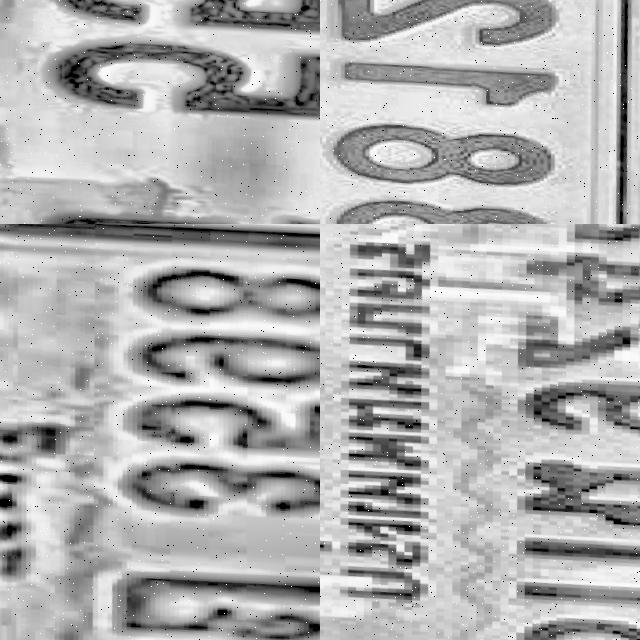license-plate: (0, 224, 320, 640), (320, 224, 640, 640), (0, 0, 320, 224), (320, 0, 640, 224)
